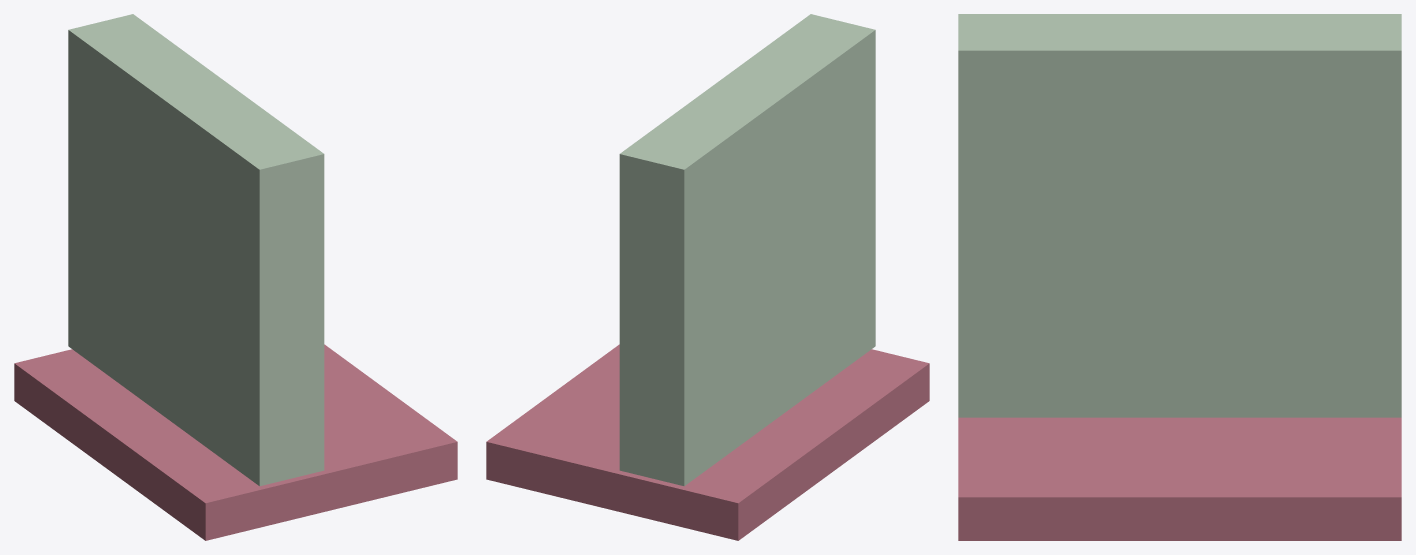
3 views of the same model, side by side, from view 1: azimuth 30°, elevation 25°; view 2: azimuth 150°, elevation 25°; view 3: azimuth 270°, elevation 25° (orthographic). The views are drawn at different scales.
Parts seen in each view (by area): view 1: world; view 2: world; view 3: world.
Part boxes in pixels (x1,y1,x2,y2): world: (14, 14, 457, 540); world: (486, 14, 929, 540); world: (958, 14, 1401, 540).
Bounding box in the file's own units: 3.5 × 4.75 × 4.6.
